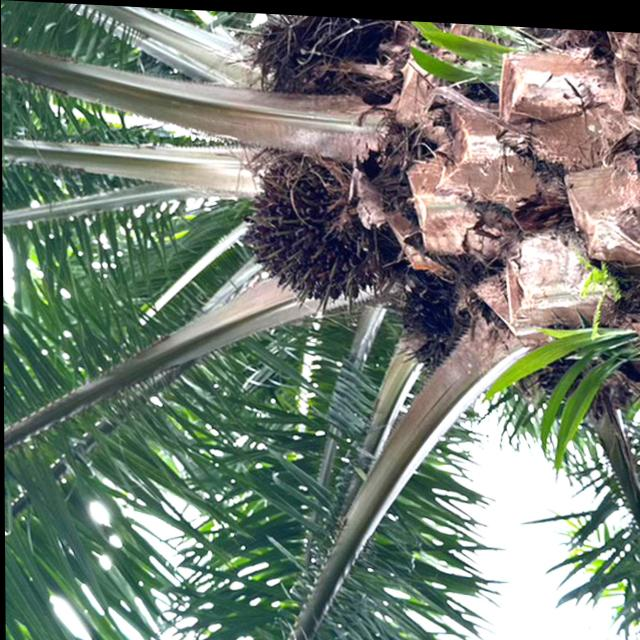almost: (231, 140, 390, 315)
